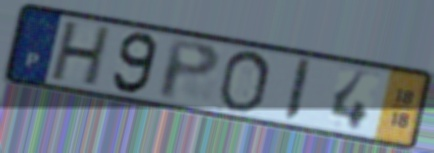4: (327, 68, 373, 133)
9: (112, 31, 161, 95)
H: (47, 19, 115, 90)
I: (280, 56, 314, 125)
O: (215, 50, 274, 114)
P: (156, 37, 223, 104)
